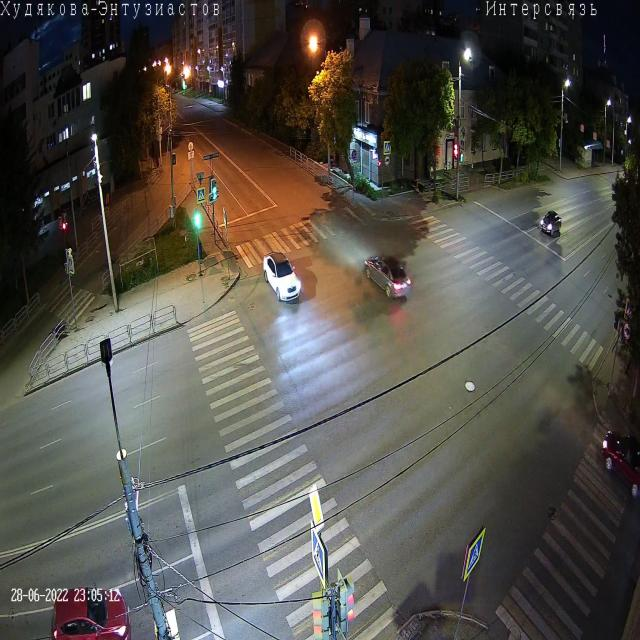car: (49, 581, 132, 640), (600, 427, 640, 498), (364, 253, 412, 300), (263, 250, 301, 303), (540, 209, 562, 237)
